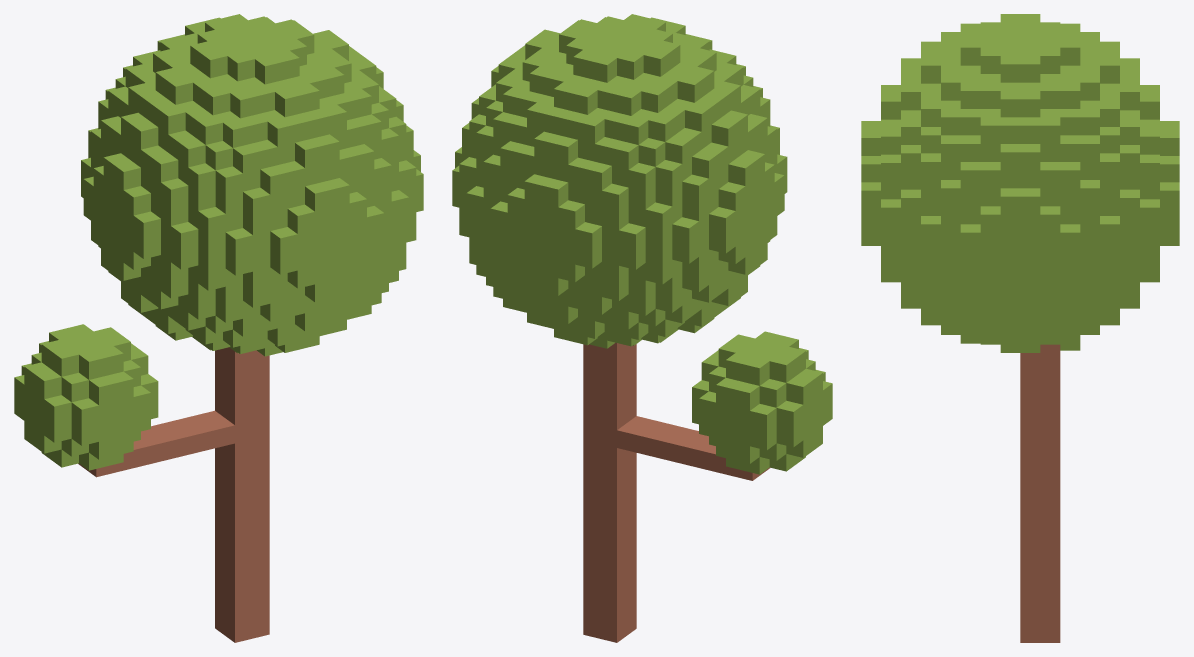
Rendered from Tree3.obj.
The picture shows the model from 3 angles, left to right: view 1: azimuth 30°, elevation 25°; view 2: azimuth 150°, elevation 25°; view 3: azimuth 270°, elevation 25°; orthographic projection. The views are drawn at different scales.
Visible parts, largest first — view 1: Tree3; view 2: Tree3; view 3: Tree3.
Boxes of the visible parts, x1,y1,x2,y2 form: Tree3: (14, 14, 423, 642); Tree3: (452, 14, 832, 642); Tree3: (861, 14, 1179, 642).
Size of the model in its own units: 20 by 33 by 16.
1 material, 1 textured.
